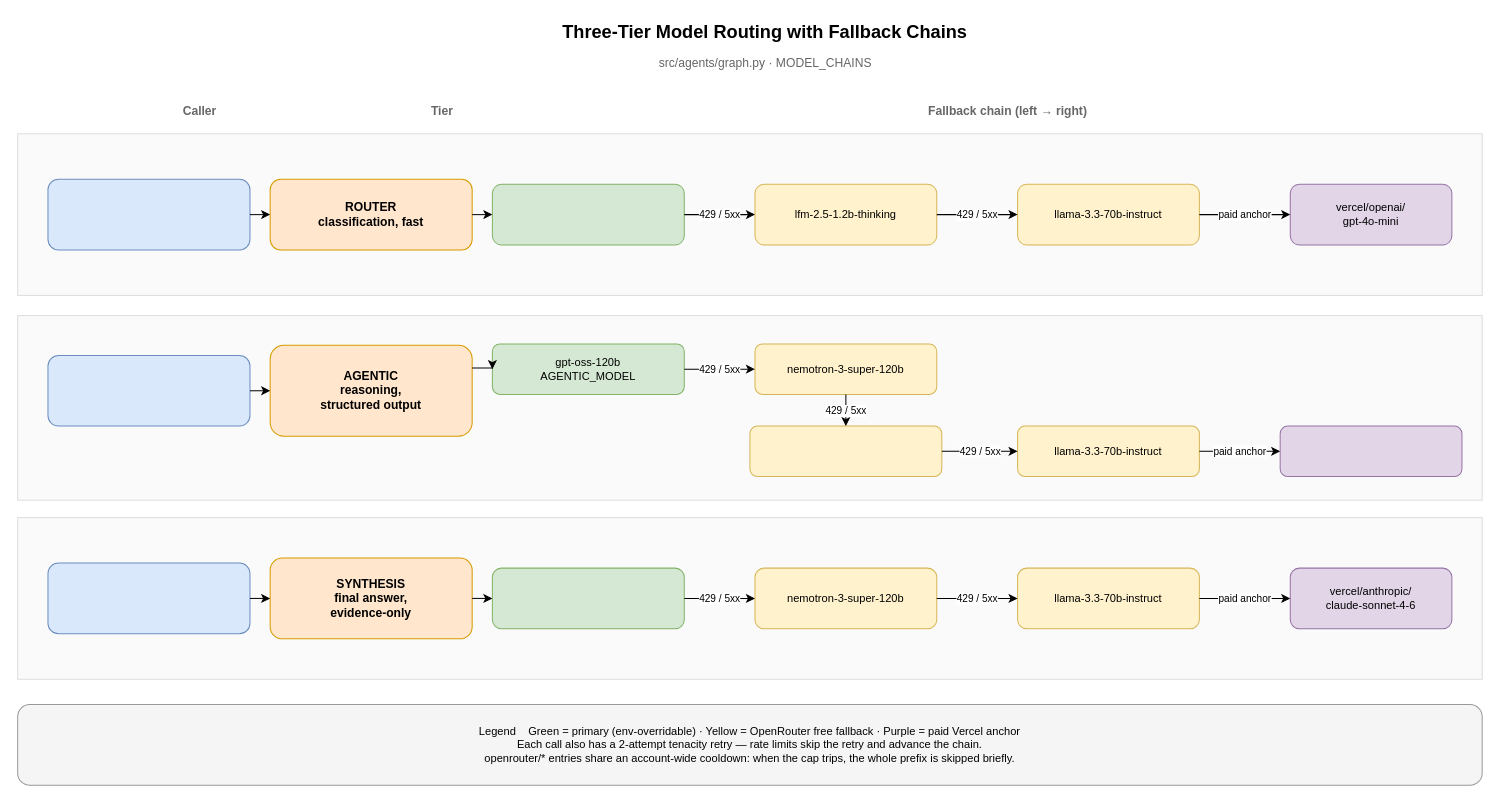
This 1500x803 diagram has some shape labels left out. Each missing label, with the box of its shape:
hermes-3-llama-3.1-405b SYNTHESIS_MODEL: (491, 567, 684, 629)
hy3-preview: (749, 425, 942, 477)
llama-3.2-3b-instruct ROUTER_MODEL: (491, 183, 684, 245)
planner_node ask_classifier_node: (47, 178, 250, 250)
scheduler_node: (47, 354, 250, 426)
summarizer_node: (47, 562, 250, 634)
vercel/anthropic/ claude-haiku-4-5: (1279, 425, 1462, 477)
